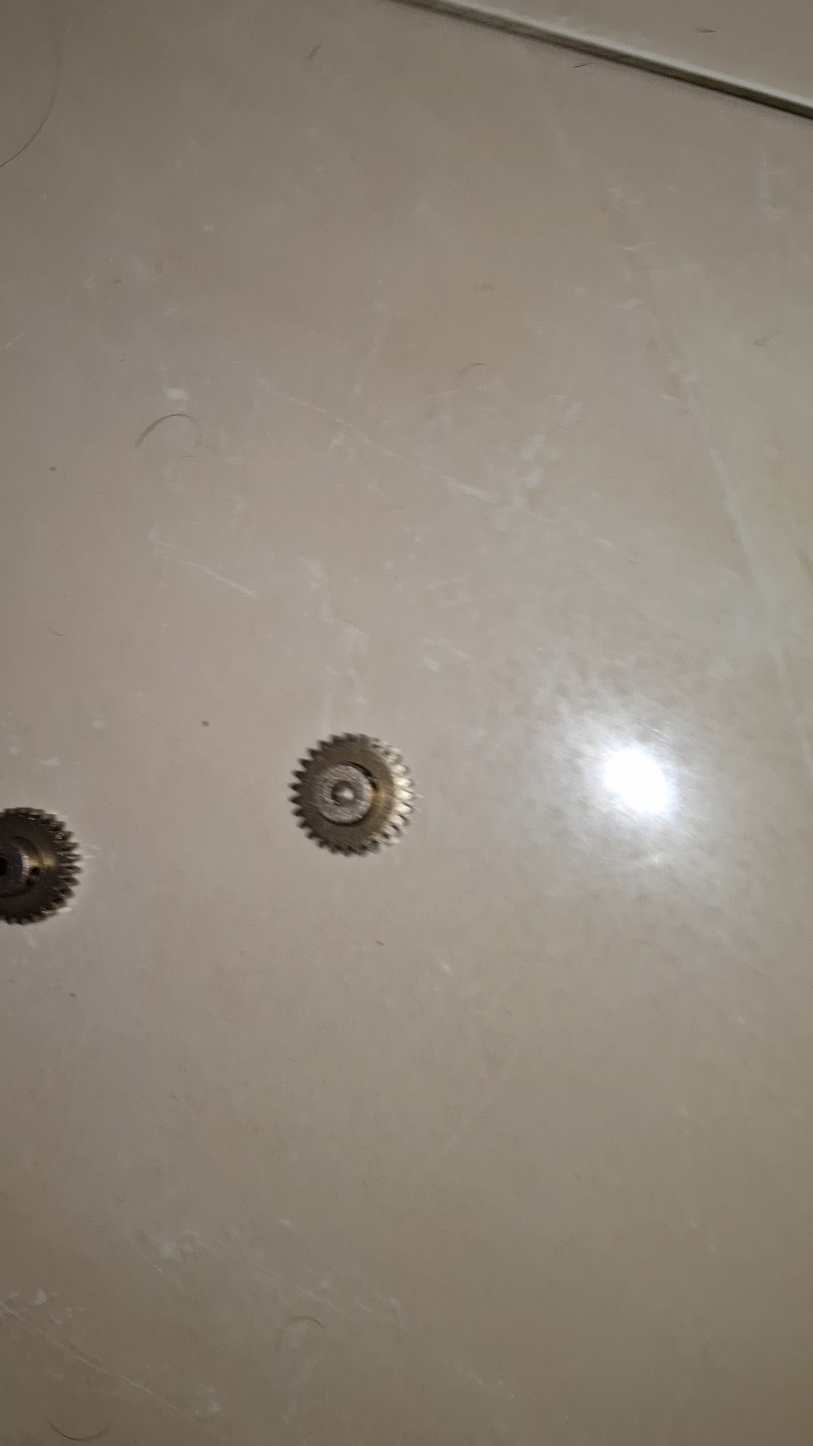spur gear: (292, 734, 413, 854), (0, 808, 80, 923)
